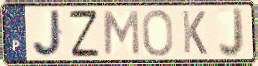J: (31, 8, 65, 59), (216, 5, 245, 59)
K: (180, 9, 209, 57)
M: (102, 9, 142, 57)
O: (141, 8, 175, 58)
Z: (67, 8, 101, 58)
